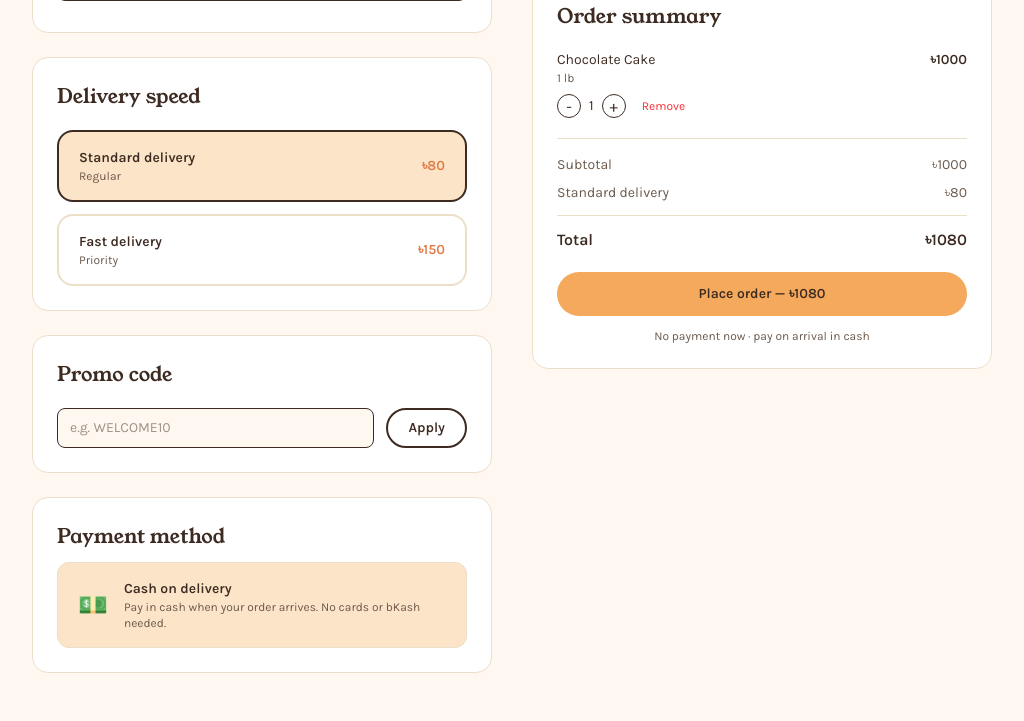
Test: CheckoutPage - negative tests › handles expired promo codes
This screenshot has width=1024, height=721.
(page scrolled)
Type "badcode" into the field with placeholder "e.g. WELCOME10".
click(216, 428); type("badcode")  # box [57,408,374,448]
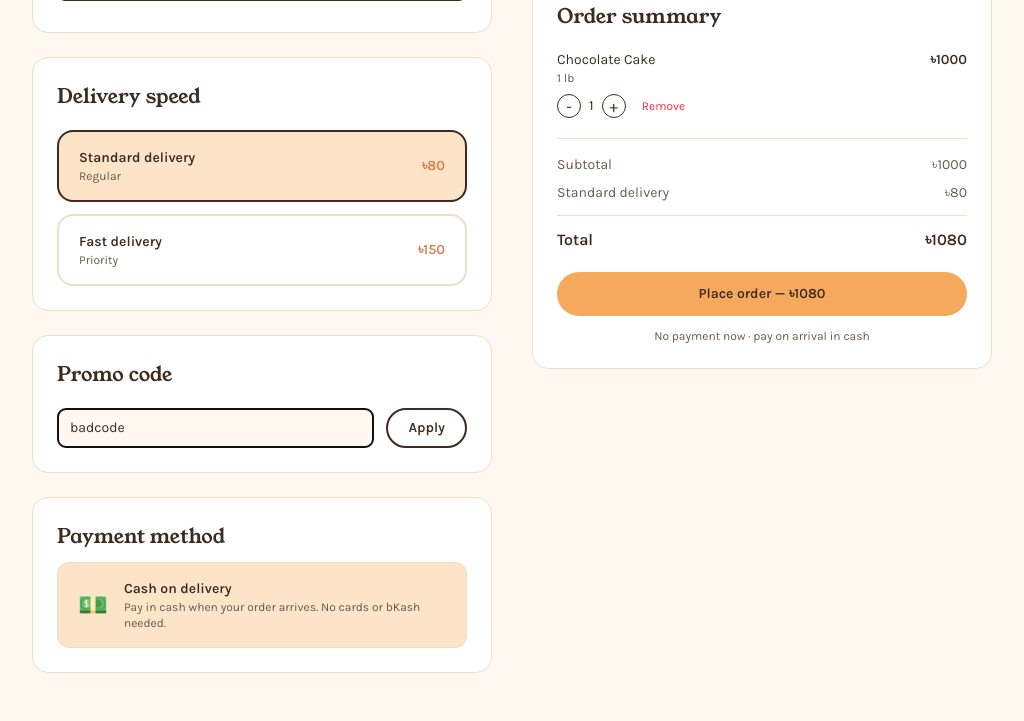
Click the button "Apply".
click(427, 428)  # box [386,408,467,448]
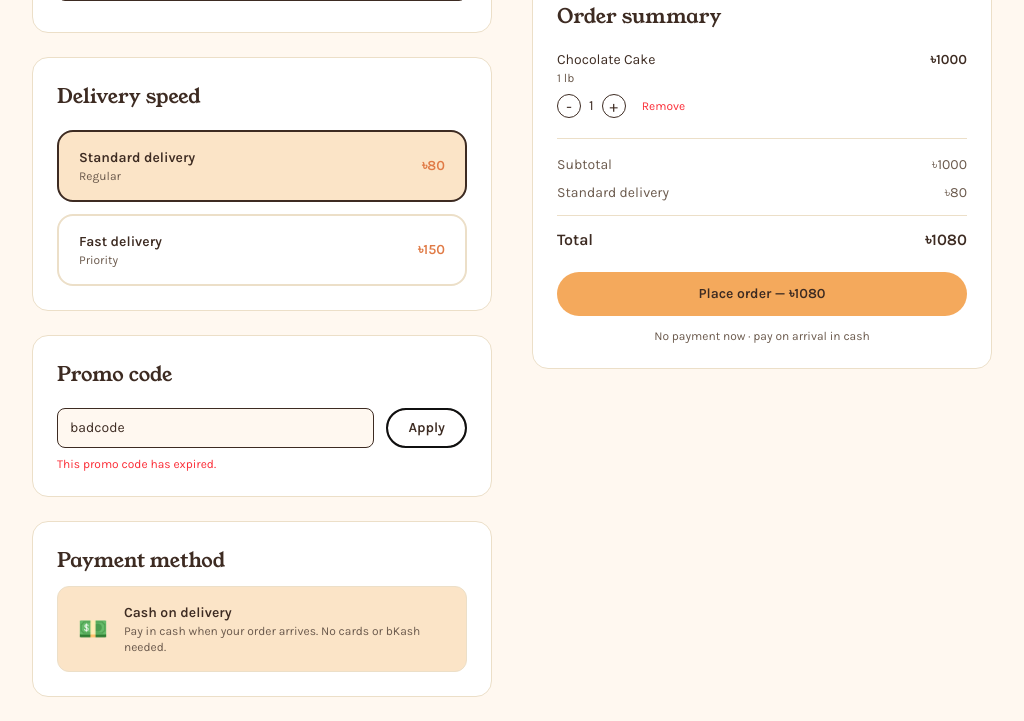
Expected: the text "This promo code has expired." is shown, [57,457,216,471]
